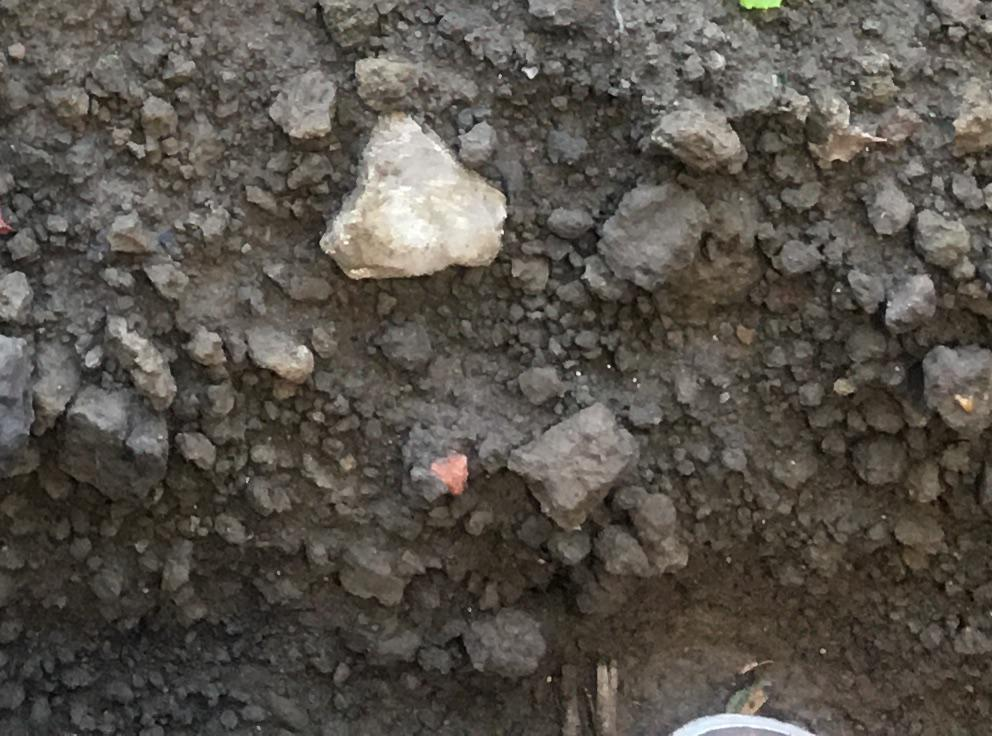block: (321, 110, 512, 283), (502, 406, 645, 530), (59, 393, 167, 516), (591, 183, 700, 297)
